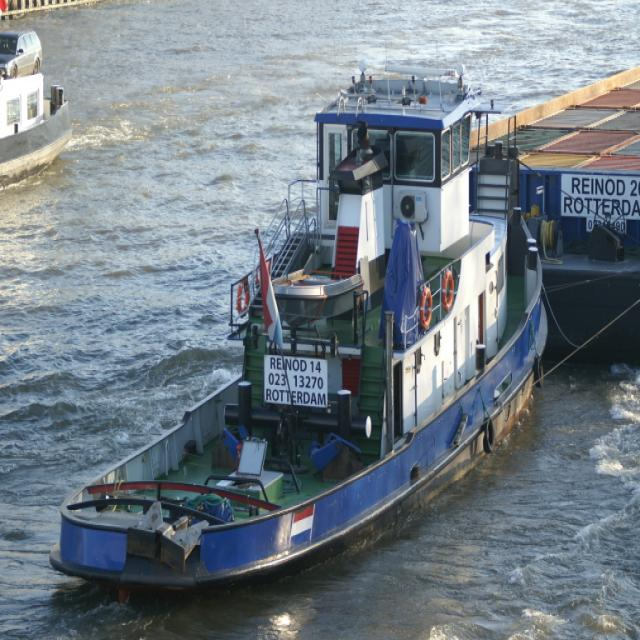tugboat: (45, 55, 556, 611)
